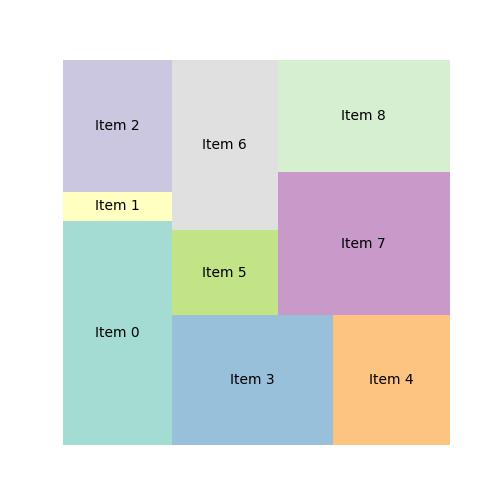rectangle: (62, 220, 171, 446), (279, 172, 449, 314), (171, 315, 335, 444), (277, 59, 449, 173), (174, 59, 278, 229), (334, 315, 450, 445), (62, 58, 172, 193), (173, 228, 278, 316), (63, 191, 174, 222)
